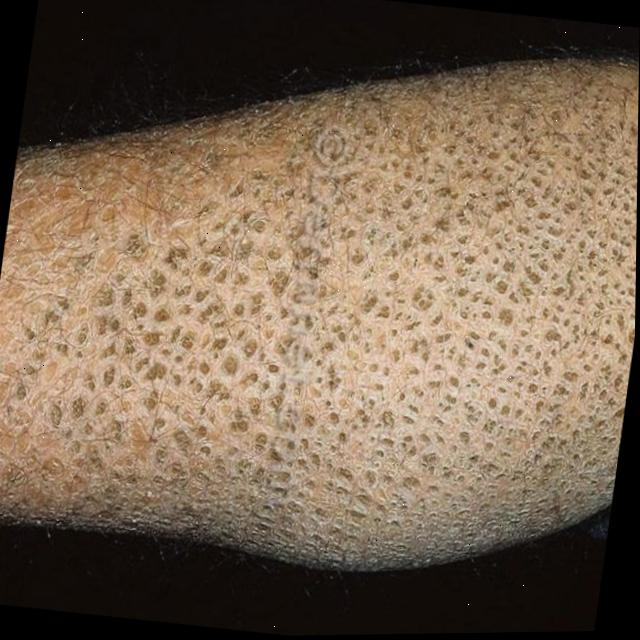Eczema: (0, 2, 640, 595)
